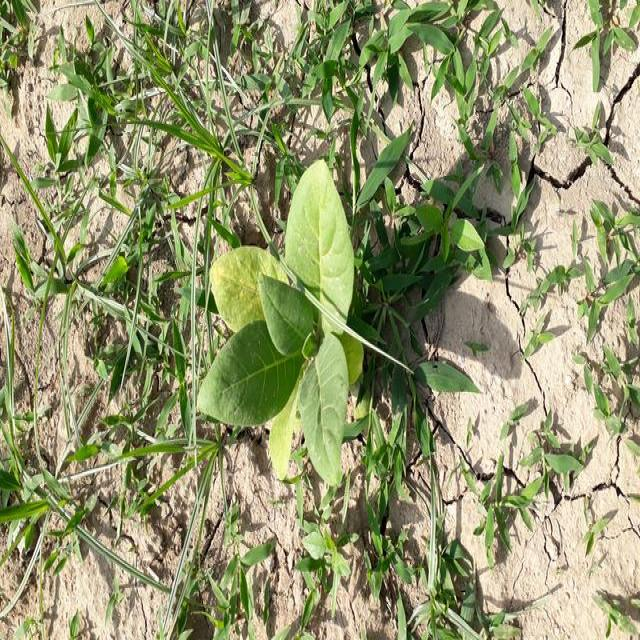crop: (206, 159, 374, 479)
